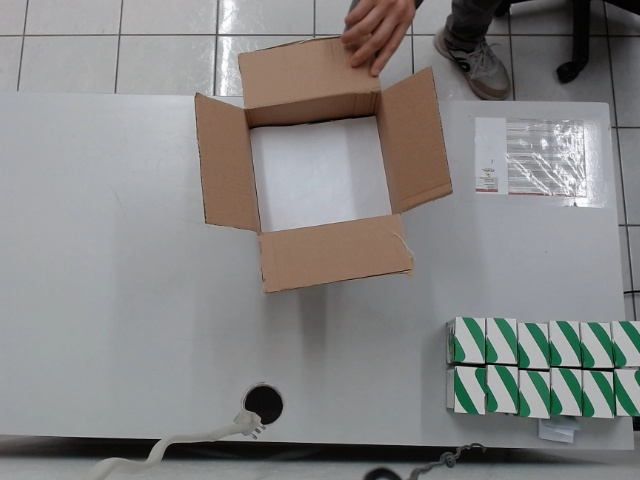caixa_principal: (188, 33, 453, 297)
